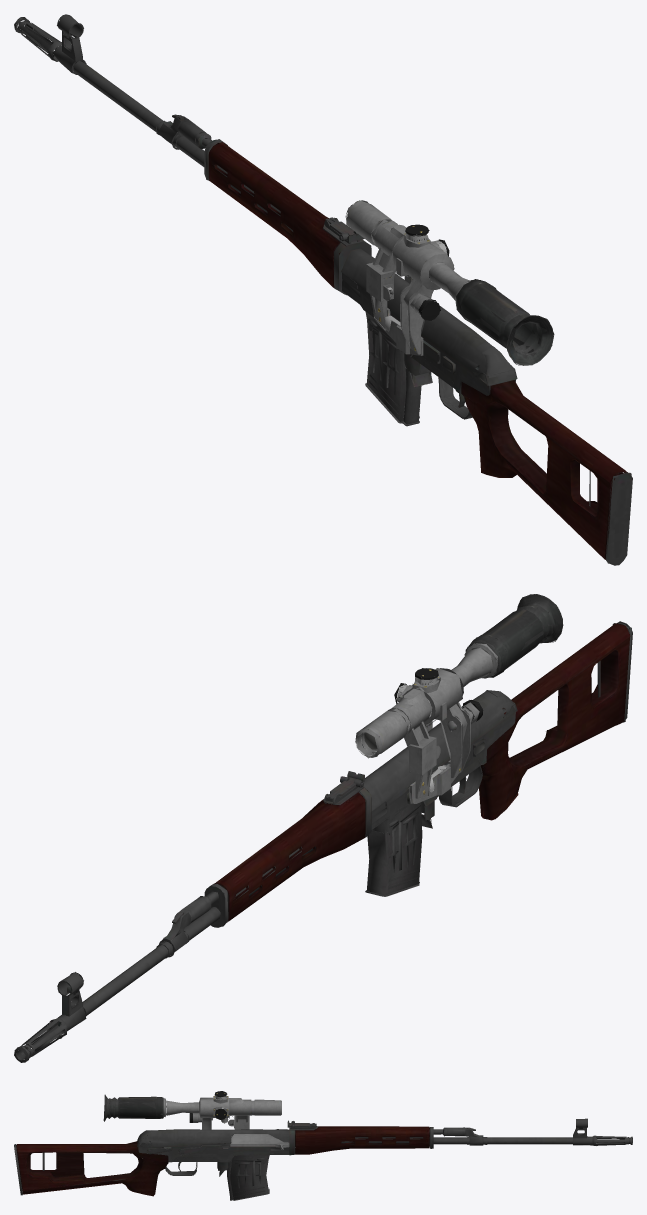
File: npc_svd.glb
3 views of the same model, one above another, from view 1: azimuth 30°, elevation 25°; view 2: azimuth 150°, elevation 25°; view 3: azimuth 270°, elevation 25° (orthographic). The views are drawn at different scales.
Parts seen in each view (by area): view 1: SVD; view 2: SVD; view 3: SVD.
Boxes of the visible parts, left/top/right/bottom form: SVD: left=14, top=14, right=632, bottom=565; SVD: left=14, top=594, right=632, bottom=1062; SVD: left=14, top=1091, right=632, bottom=1200.
Bounding box in the file's own units: 0.0721 × 0.2266 × 1.21.
Materials: 3 (3 with a texture image).
